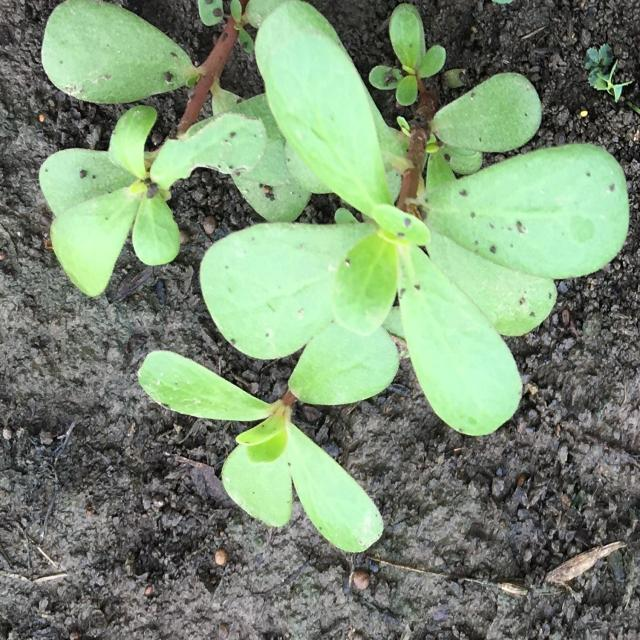Purslane: (137, 0, 630, 554), (38, 0, 313, 297)
